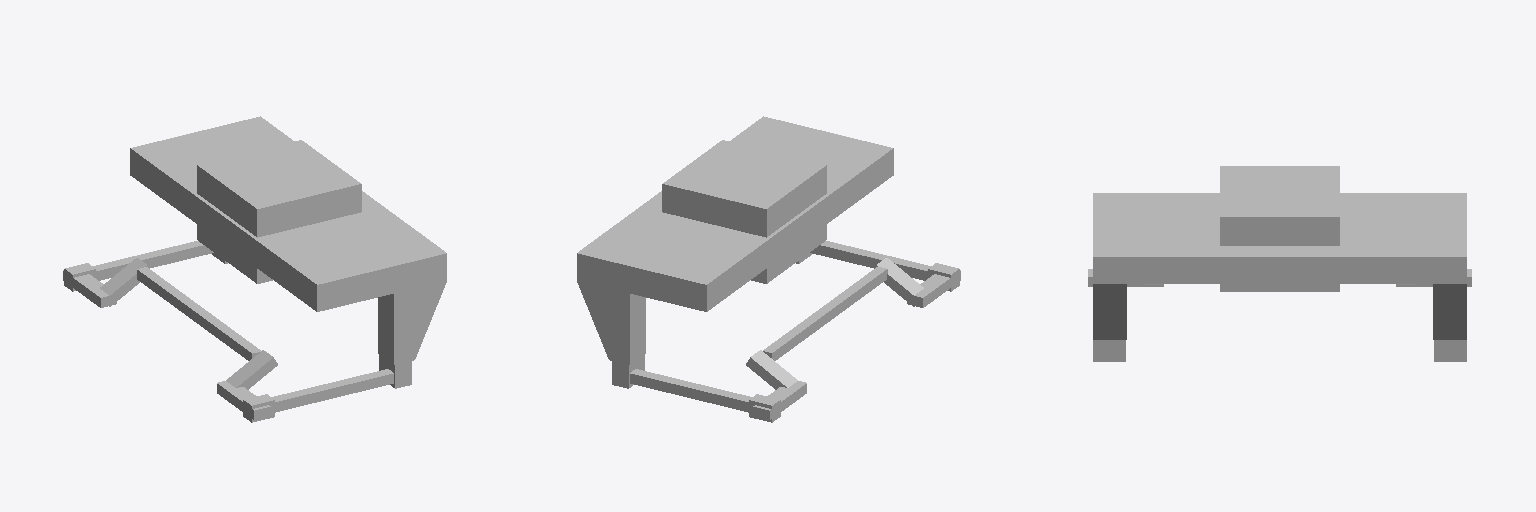
Rendered from ss3_top_a.obj.
3 renders of one model, left to right at view 1: azimuth 30°, elevation 25°; view 2: azimuth 150°, elevation 25°; view 3: azimuth 270°, elevation 25°, orthographic.
Parts seen in each view (by area): view 1: top; view 2: top; view 3: top.
Boxes of the visible parts, box(x1,y1,x2,y2) form: top: box(63, 116, 446, 422); top: box(577, 116, 960, 422); top: box(1088, 166, 1471, 361).
Bounding box in the file's own units: 1.88 × 1.39 × 3.19.